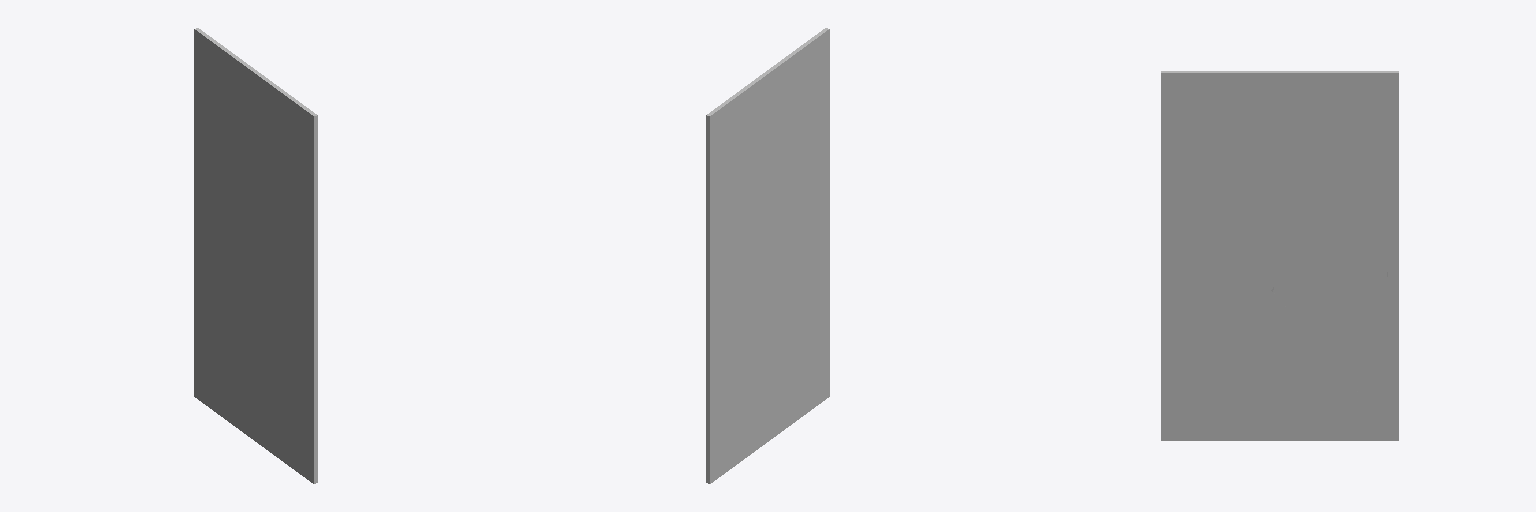
3 views of the same model, side by side, from view 1: azimuth 30°, elevation 25°; view 2: azimuth 150°, elevation 25°; view 3: azimuth 270°, elevation 25° (orthographic).
Parts seen in each view (by area): view 1: back15_zoetrope.775; view 2: back15_zoetrope.775; view 3: back15_zoetrope.775.
Part boxes in pixels (x1,y1,x2,y2): back15_zoetrope.775: (194, 28, 317, 483); back15_zoetrope.775: (706, 28, 829, 483); back15_zoetrope.775: (1161, 71, 1398, 440).
Size of the model in its own units: 0.0109 by 0.9246 by 0.5439.